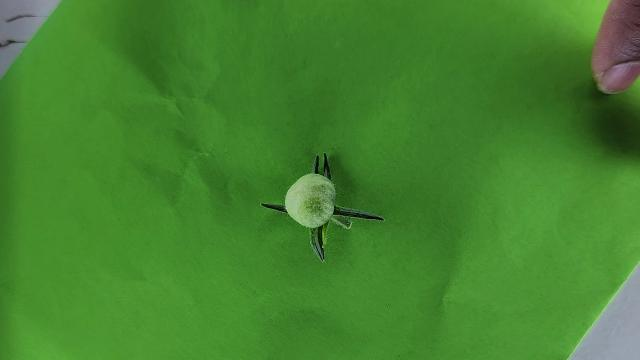Fruit Maturation: (284, 173, 337, 227)
